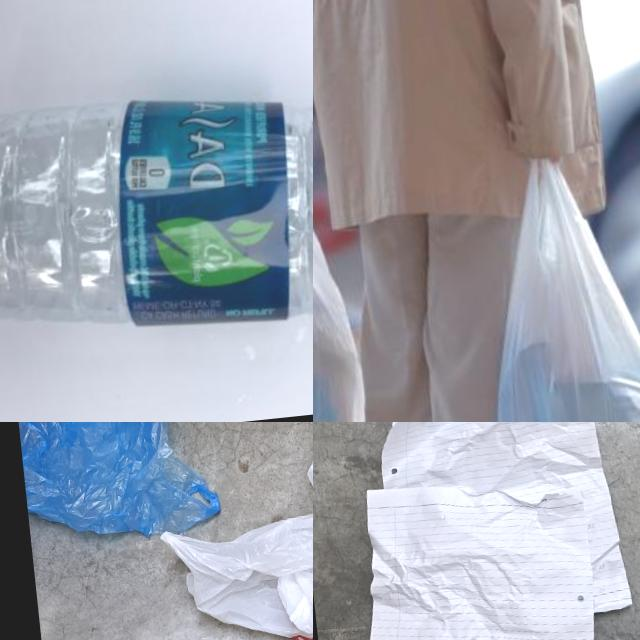garrafa plástica: (0, 58, 313, 357)
papel: (320, 422, 640, 640)
sacola plástica: (468, 150, 640, 422), (152, 432, 313, 640), (11, 422, 224, 552), (313, 139, 378, 422)
